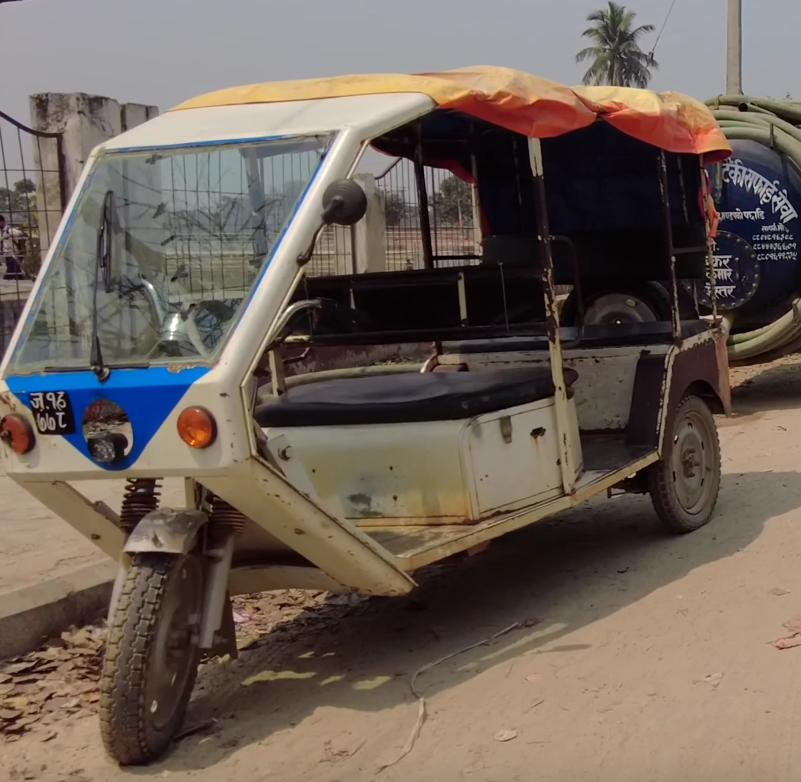e-rickshaw: (9, 72, 733, 769)
